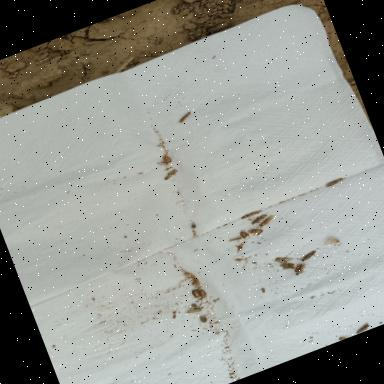pbw: (257, 214, 278, 230), (240, 207, 264, 220), (250, 213, 270, 225), (177, 112, 194, 126), (162, 168, 180, 181), (292, 263, 310, 276), (322, 234, 340, 247), (300, 249, 318, 262), (161, 149, 176, 164), (247, 225, 264, 238), (354, 322, 372, 334), (325, 177, 344, 188), (280, 260, 296, 272), (274, 254, 288, 267), (186, 306, 202, 316), (190, 288, 201, 299), (156, 158, 168, 168), (198, 288, 208, 299), (292, 263, 304, 272), (229, 236, 242, 243), (198, 314, 207, 324), (240, 230, 250, 238), (236, 244, 244, 252), (260, 287, 266, 294)
